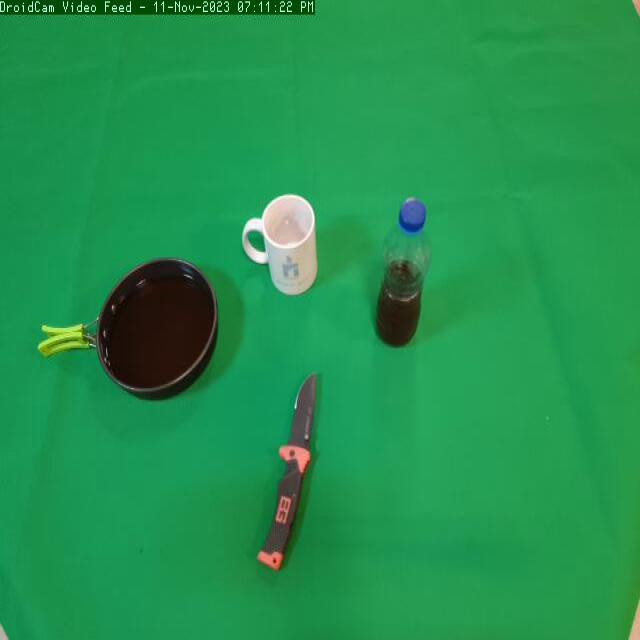cup: (240, 190, 323, 308)
fullbottle: (369, 193, 434, 362)
fullpan: (29, 253, 229, 416)
knife: (252, 368, 340, 598)
